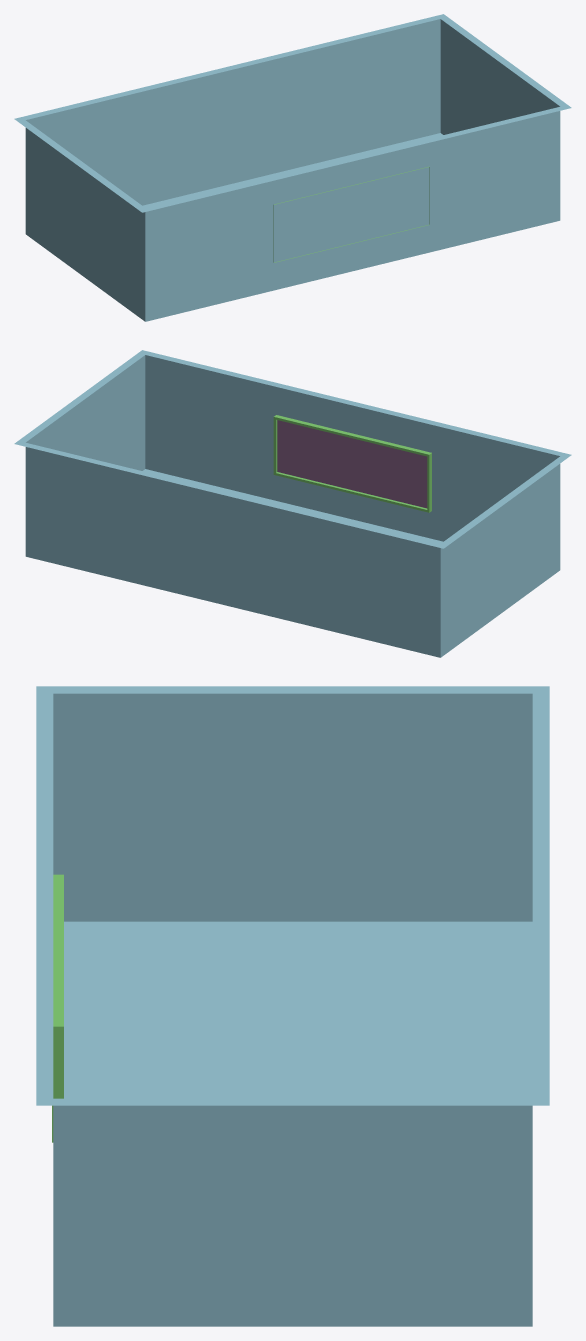
The model's file is labov2.FBX.
3 renders of one model, top to bottom at view 1: azimuth 30°, elevation 25°; view 2: azimuth 150°, elevation 25°; view 3: azimuth 270°, elevation 25°, orthographic. The views are drawn at different scales.
Parts seen in each view (by area): view 1: Box001; view 2: Box001; view 3: Box001.
Boxes of the visible parts, <box> form: Box001: <box>14,14,571,321</box>; Box001: <box>14,350,571,657</box>; Box001: <box>36,686,549,1326</box>.
Size of the model in its own units: 828 by 210 by 428.
